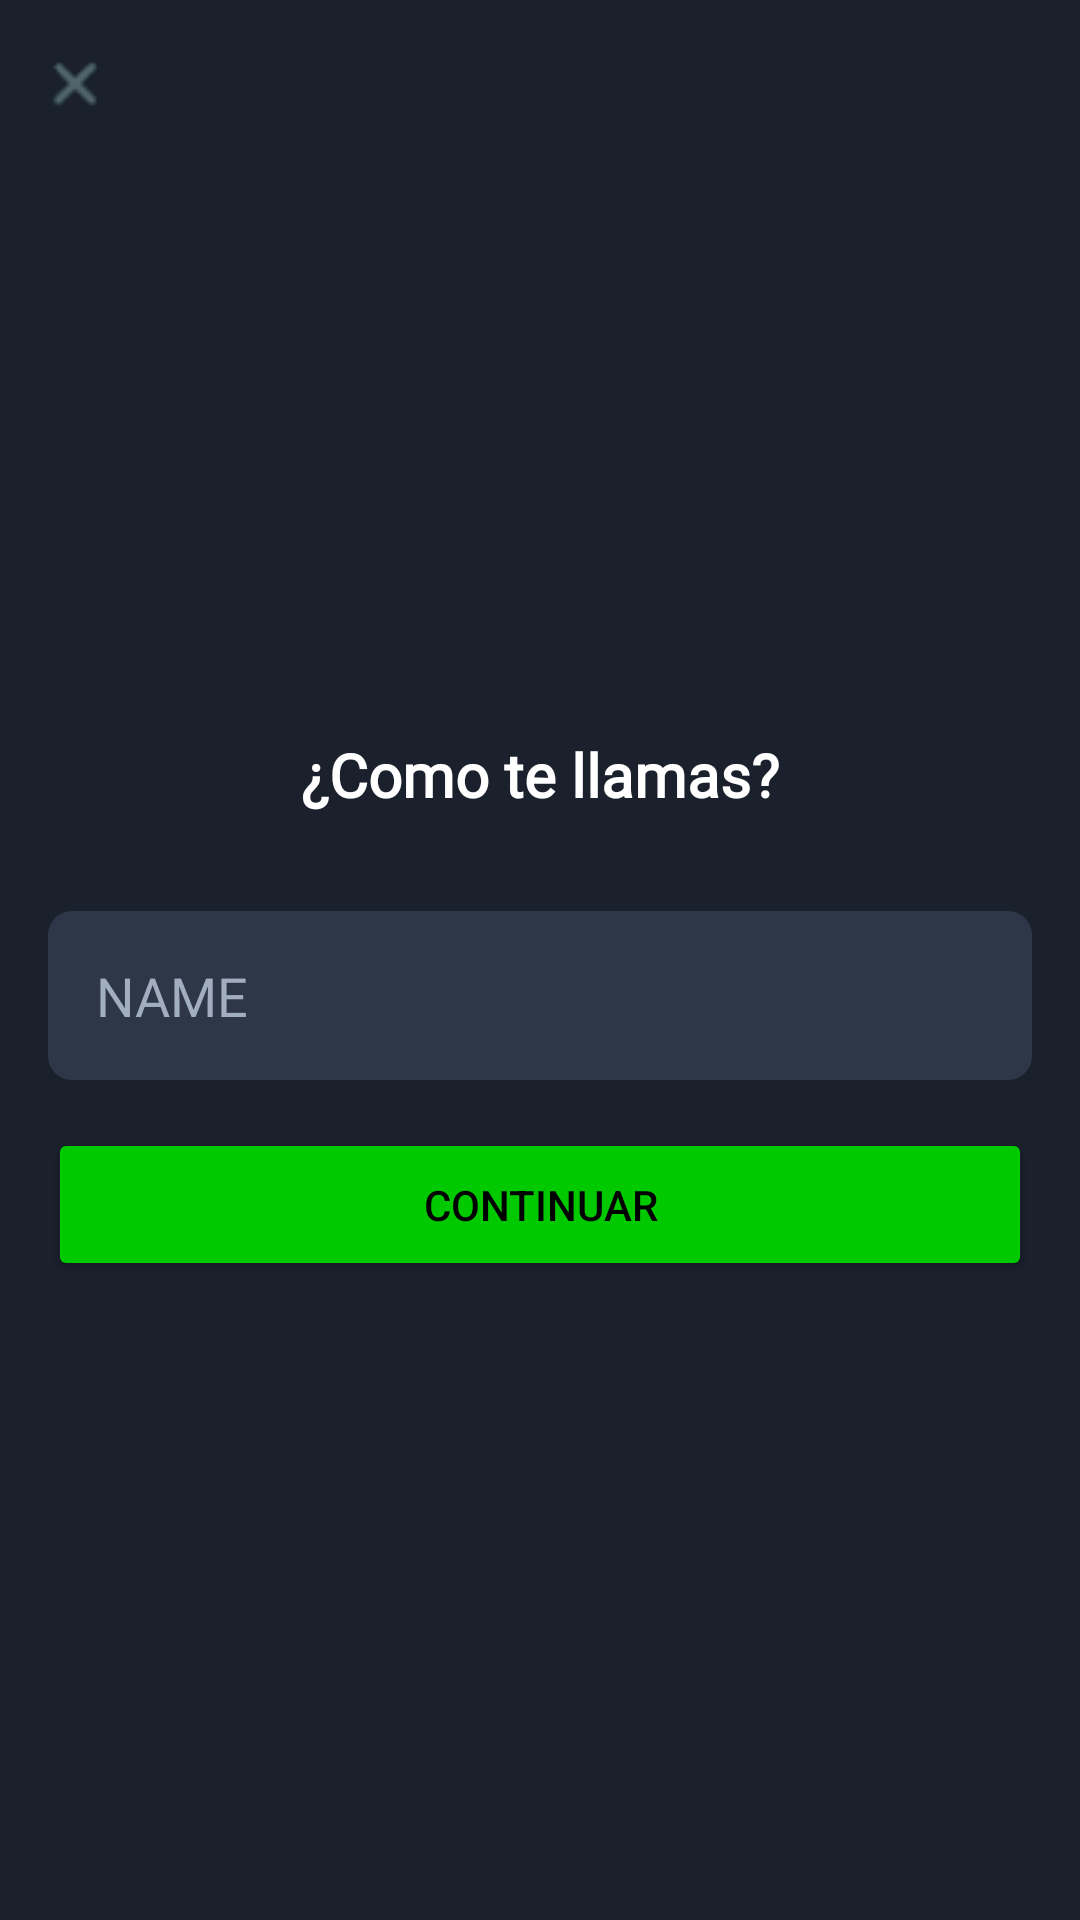

Icon click points for this 1080x1920 phone screenshot, format [x,y]:
Cerrar: [75,84]
